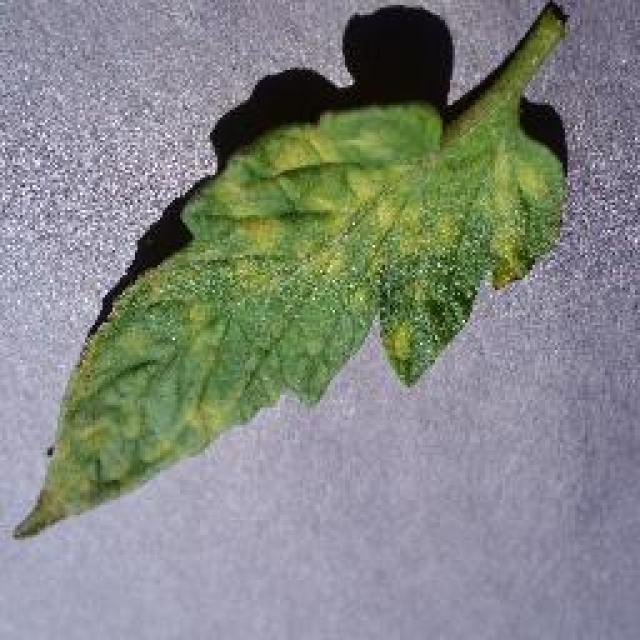leaf mold: (19, 10, 566, 537)
